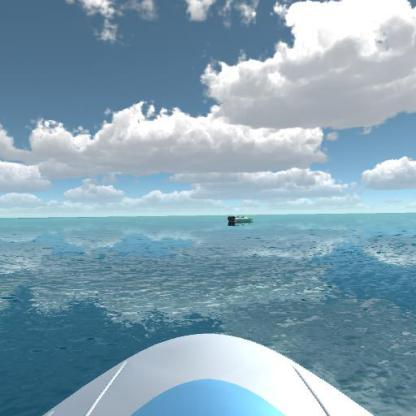usv0: (226, 211, 257, 229)
